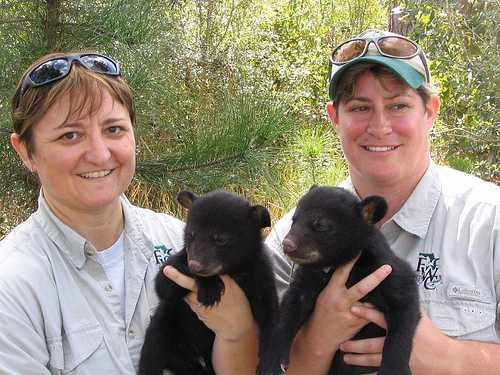bear: (153, 162, 281, 290), (275, 159, 403, 287)
